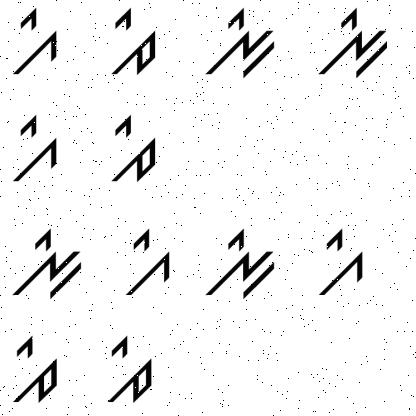gi: (113, 226, 176, 303), (3, 112, 64, 188), (311, 224, 367, 302), (5, 7, 63, 79)
ngi: (198, 223, 278, 302), (311, 3, 393, 78), (9, 226, 86, 304), (202, 2, 276, 82)
ti: (104, 112, 166, 188), (102, 331, 158, 409), (8, 330, 63, 406), (104, 8, 158, 80)
